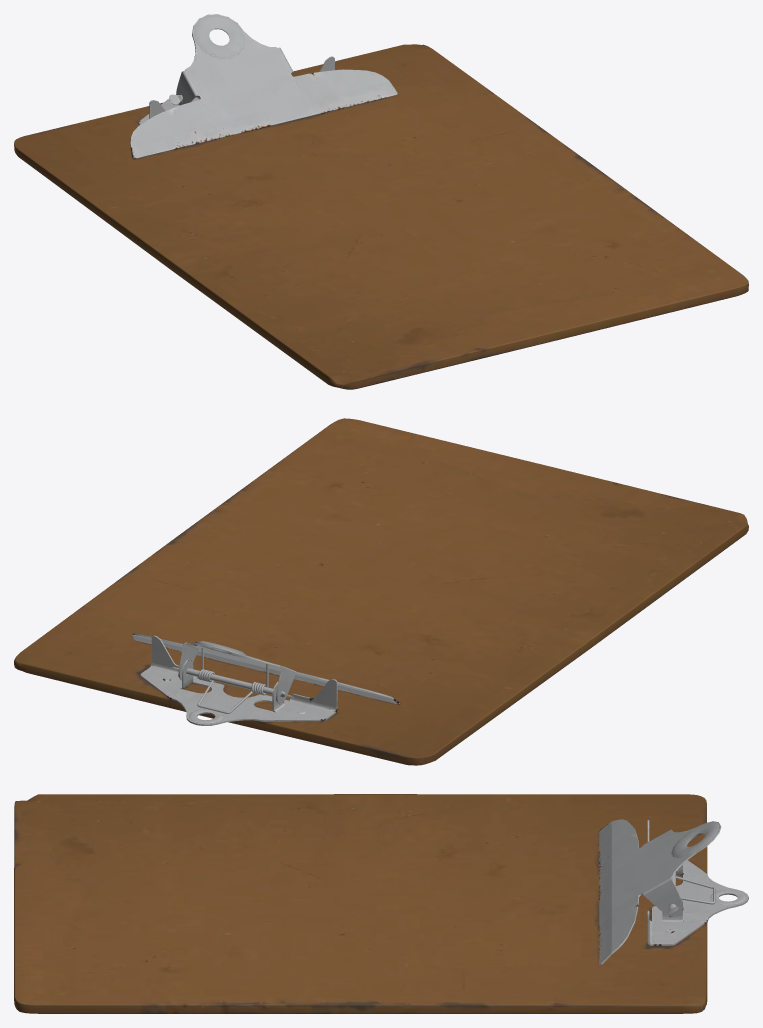
The model's file is clipboard.gltf.
3 renders of one model, top to bottom at view 1: azimuth 30°, elevation 25°; view 2: azimuth 150°, elevation 25°; view 3: azimuth 270°, elevation 25°, orthographic. The views are drawn at different scales.
Parts seen in each view (by area): view 1: clipboard; view 2: clipboard; view 3: clipboard.
Part boxes in pixels (<box>): clipboard: <box>14,14,748,389</box>; clipboard: <box>14,418,748,765</box>; clipboard: <box>14,794,748,1013</box>.
Bounding box in the file's own units: 0.2286 × 0.042 × 0.3366.
1 material, 1 textured.
